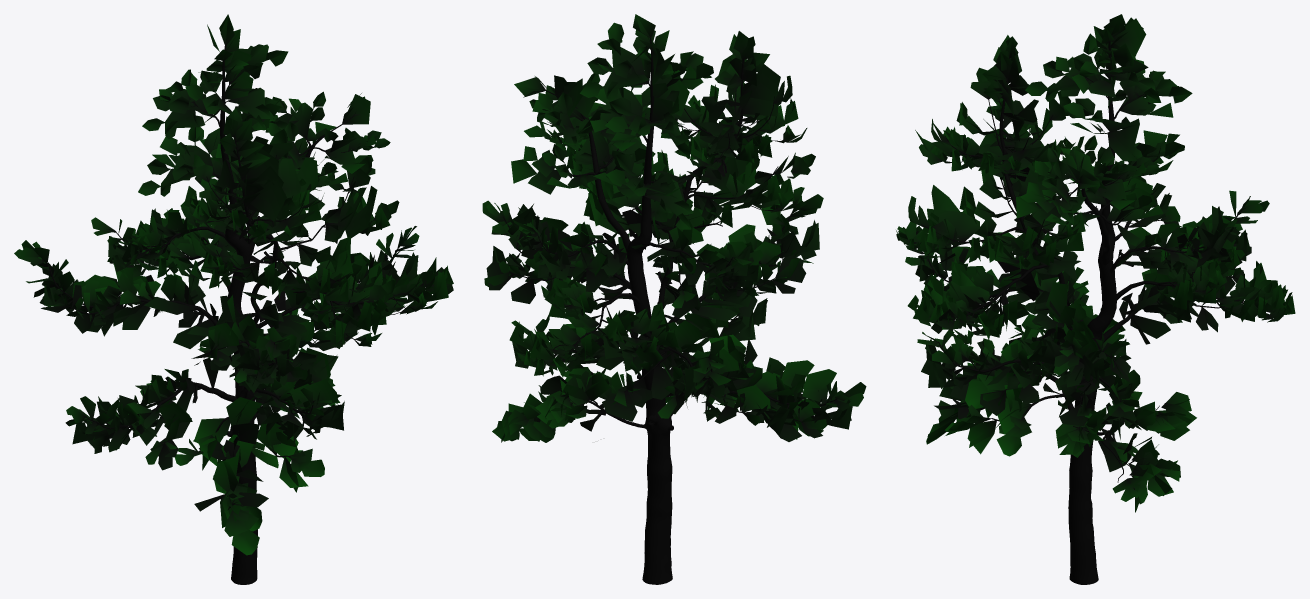
The model's file is Pine_beach_02_A.fbx.
3 views of the same model, side by side, from view 1: azimuth 30°, elevation 25°; view 2: azimuth 150°, elevation 25°; view 3: azimuth 270°, elevation 25° (orthographic). The views are drawn at different scales.
Visible parts, largest first — view 1: pine_beach_02_A_LOD0; view 2: pine_beach_02_A_LOD0; view 3: pine_beach_02_A_LOD0.
Boxes of the visible parts, <box> form: pine_beach_02_A_LOD0: <box>14,14,453,584</box>; pine_beach_02_A_LOD0: <box>482,14,866,584</box>; pine_beach_02_A_LOD0: <box>896,14,1295,584</box>.
Size of what is drawn, in the model's own units: 684 by 1012 by 648.
